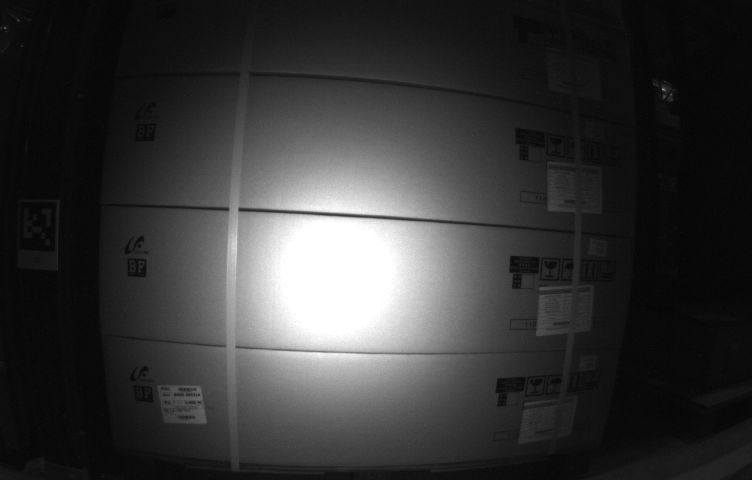True Barcode: (158, 387, 208, 424)
